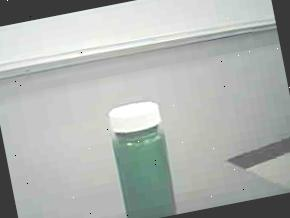Bottle C: (91, 92, 189, 218)
